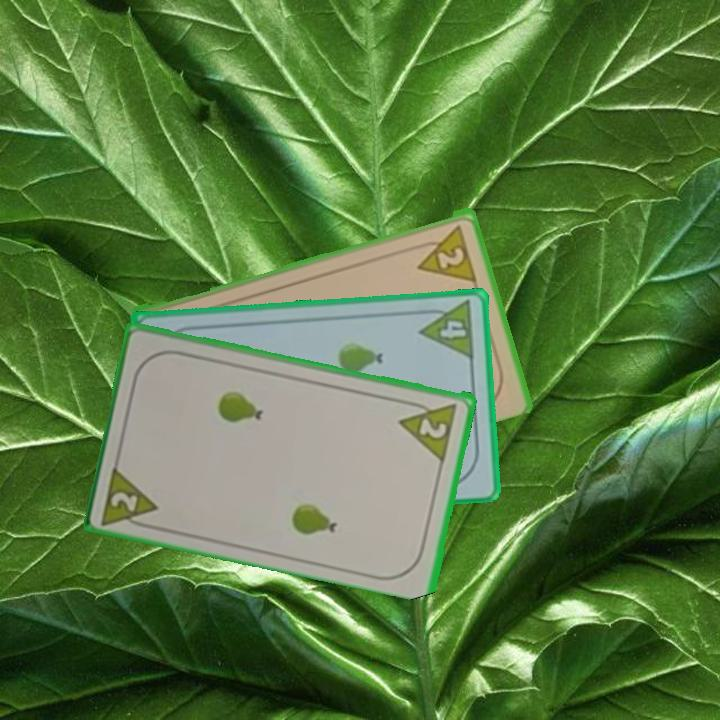2p: (98, 461, 162, 533), (409, 221, 479, 284), (396, 396, 461, 462)
4p: (415, 297, 477, 362)
